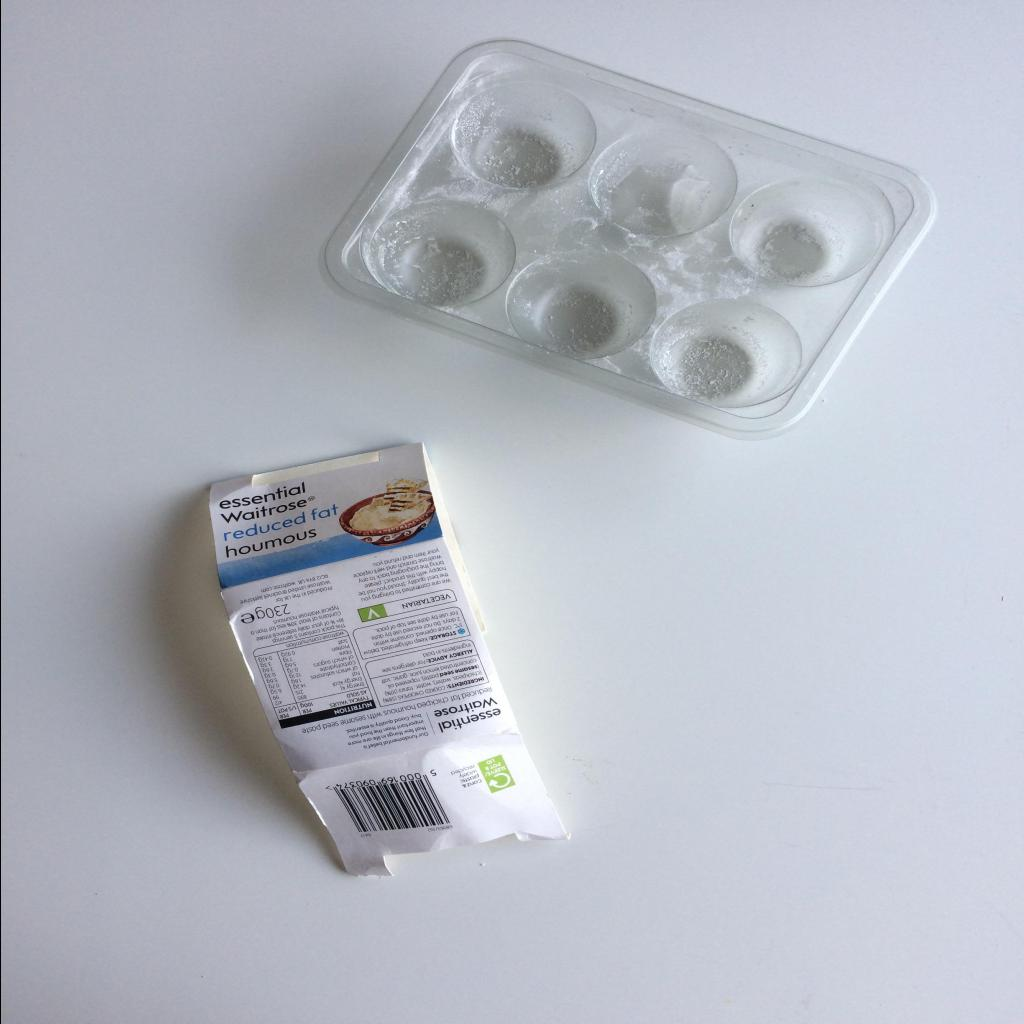Disposable food container: (316, 37, 938, 441)
Other carton: (208, 442, 570, 876)
